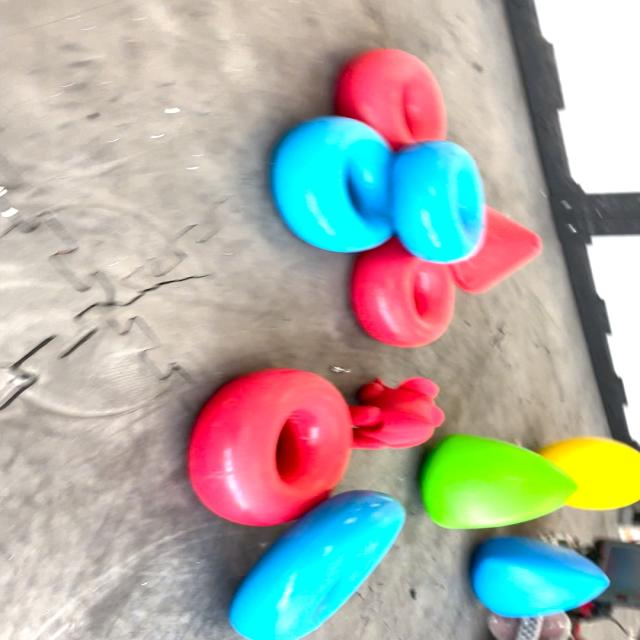Blue-Ring: (229, 490, 404, 640), (271, 116, 393, 252), (391, 140, 484, 264)
Red-Ring: (189, 369, 353, 526), (351, 239, 456, 348), (336, 49, 447, 150)
